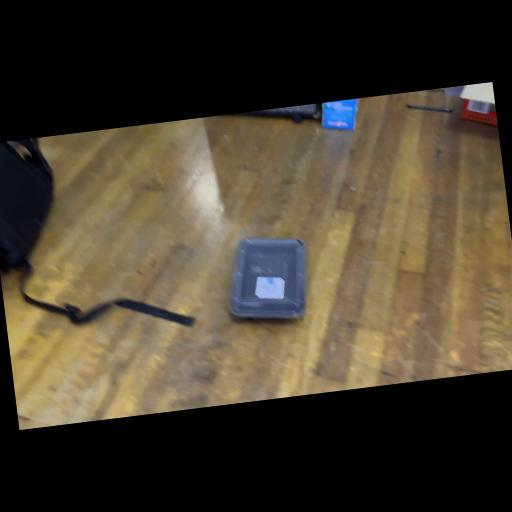rigid_plastic_container: (224, 222, 318, 335)
